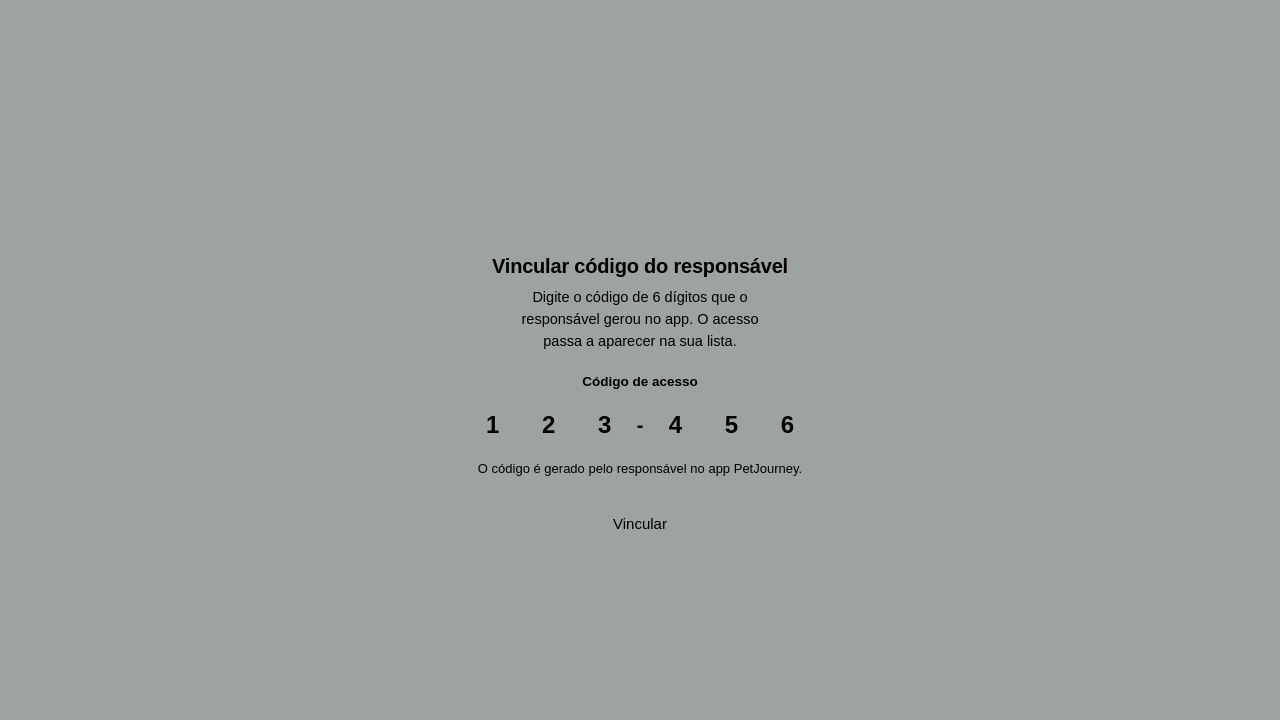
it: 429 › vincular: o mesmo limite, a mesma mensagem
This screenshot has width=1280, height=720.
Click the button "Vincular" at point(640, 523), box [452,500,828,546]
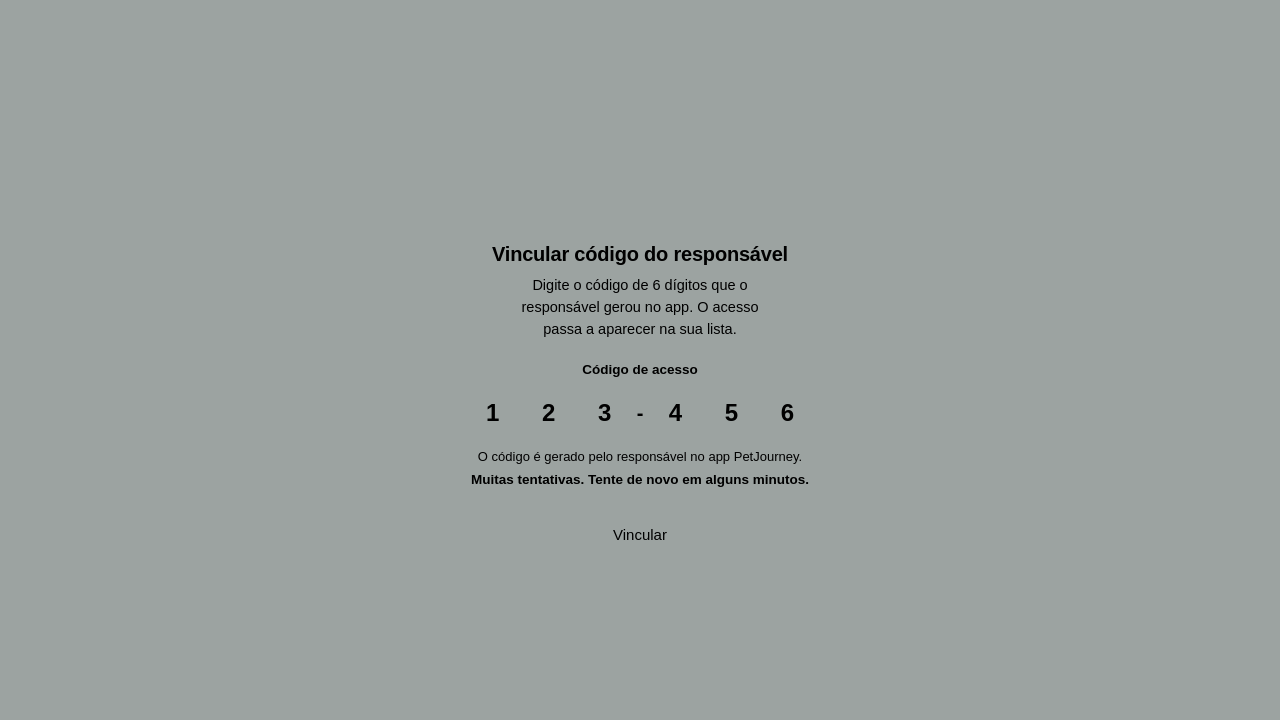
Expected: the message "Muitas tentativas. Tente de novo em alguns minutos." is shown, [452,473,828,488]
Expected: the button "Vincular" is disabled, [452,512,828,558]
